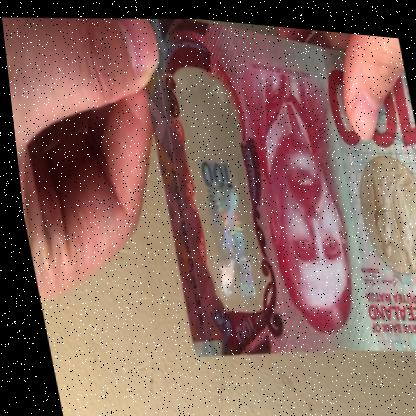100F: (177, 89, 256, 303)
